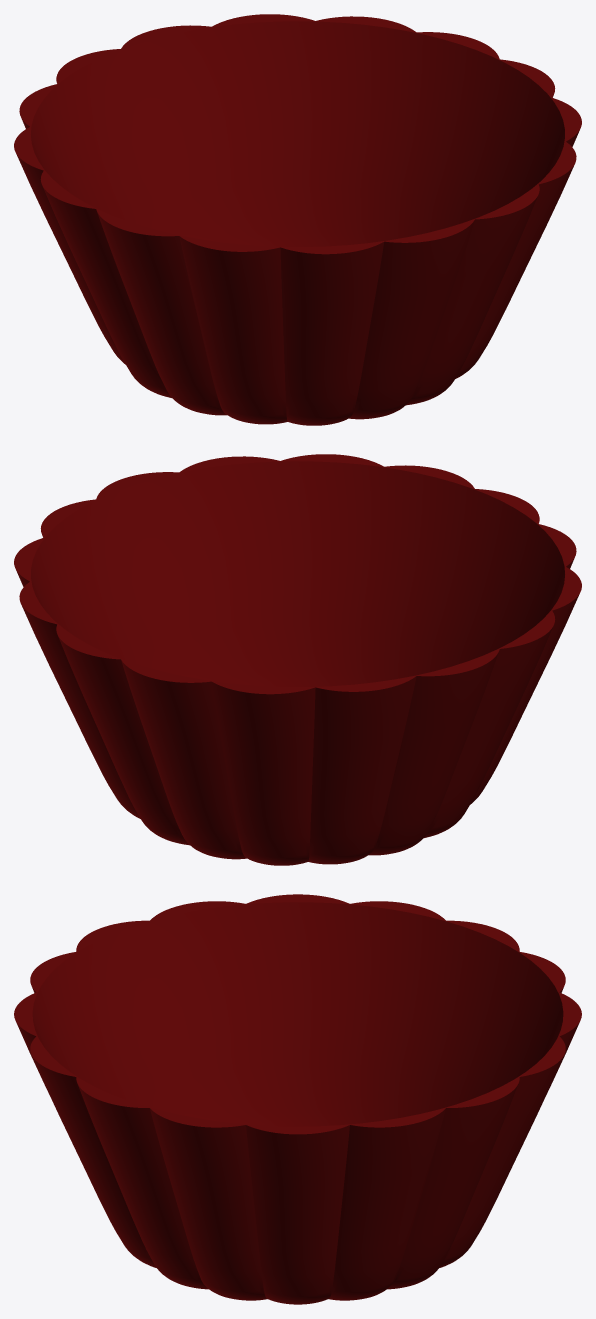
File: lurel.glb
3 views of the same model, one above another, from view 1: azimuth 30°, elevation 25°; view 2: azimuth 150°, elevation 25°; view 3: azimuth 270°, elevation 25° (orthographic).
Bounding box in the file's own units: 0.115 × 0.05 × 0.115.
